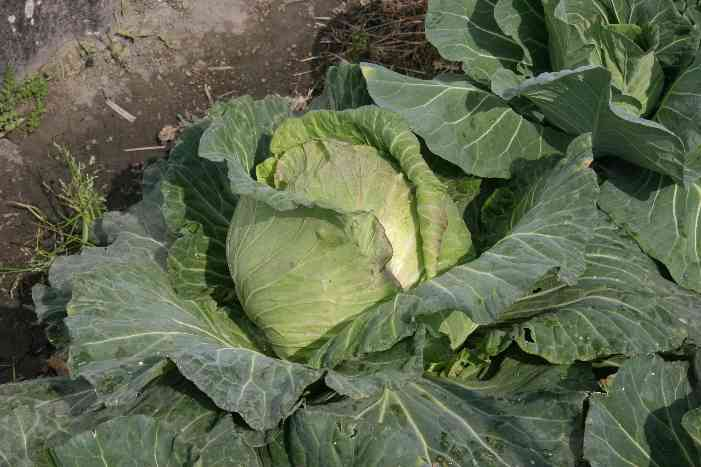cabbage: (1, 45, 699, 465)
